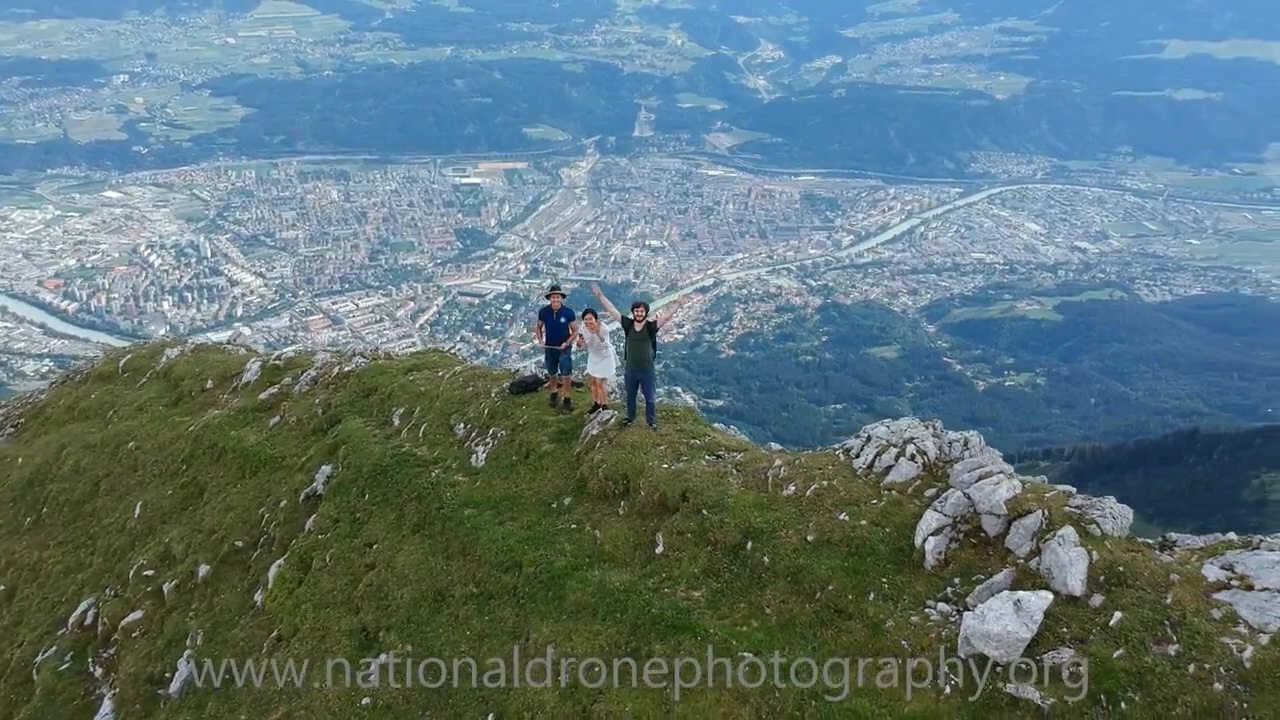insan: (587, 279, 672, 429), (532, 284, 581, 413), (574, 308, 619, 416)
